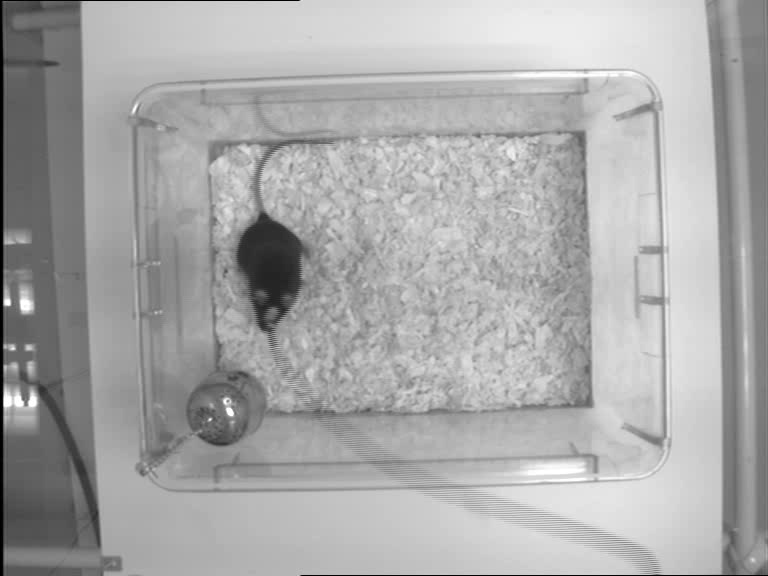mice: (234, 136, 333, 335)
